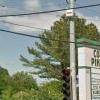Tree: (31, 3, 76, 81)
